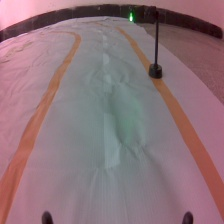green: (127, 5, 164, 81)
